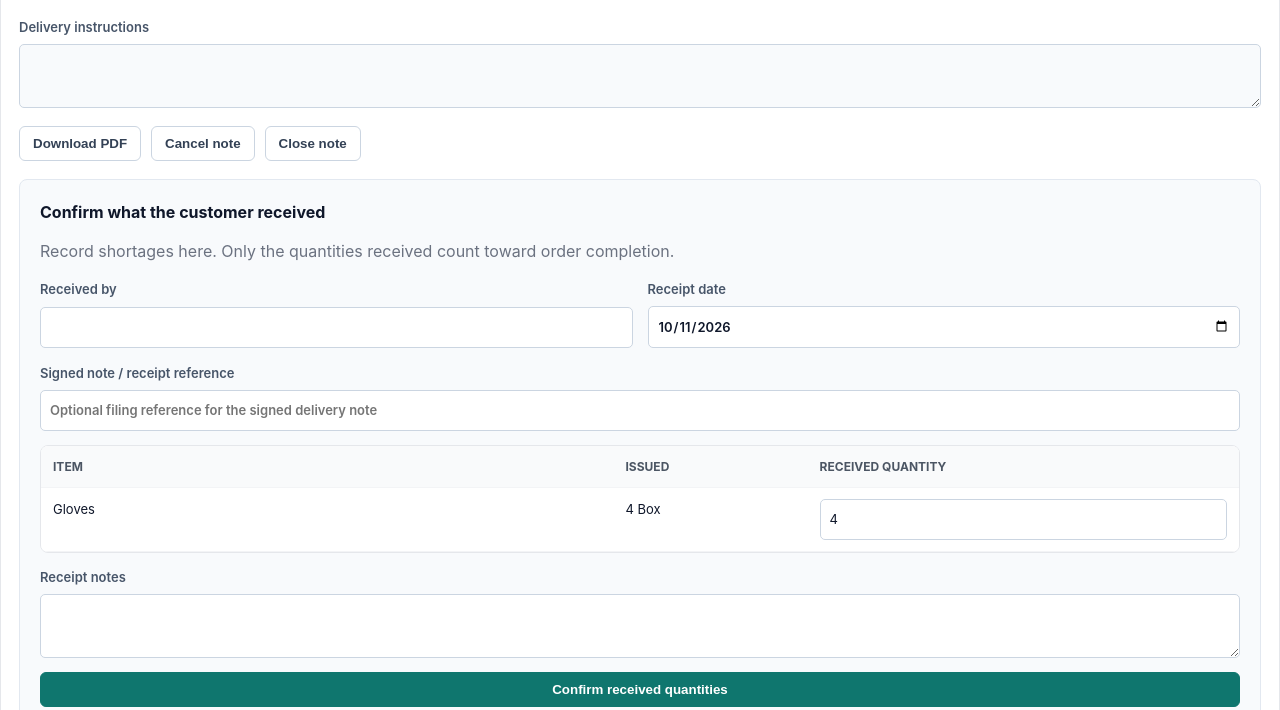
Test case: issued note has a prominent reference editor while quantities remain locked
This screenshot has width=1280, height=710.
(page scrolled)
Type "Receiver in progress" into the field labelled "Received by". click: (336, 327)
box: [40,306,632,348]
(page scrolled)
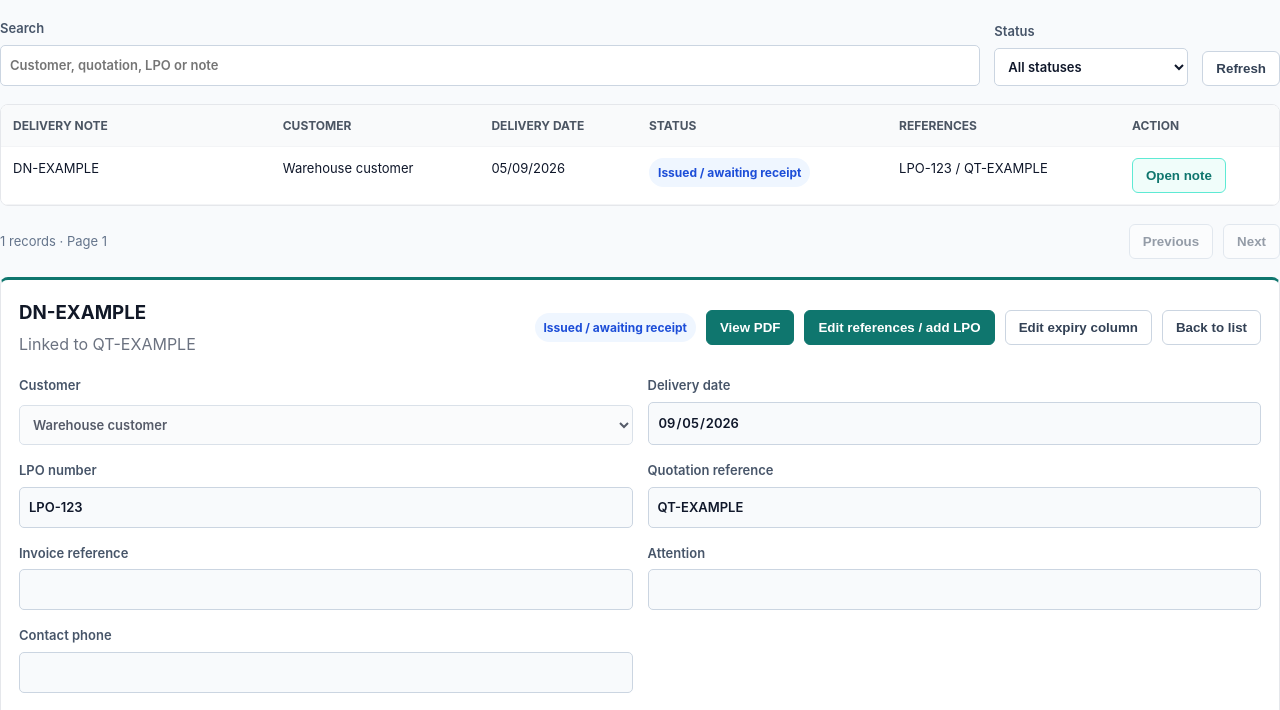
Click the button "Edit references / add LPO". click: (900, 328)
box: [804,310,995,345]
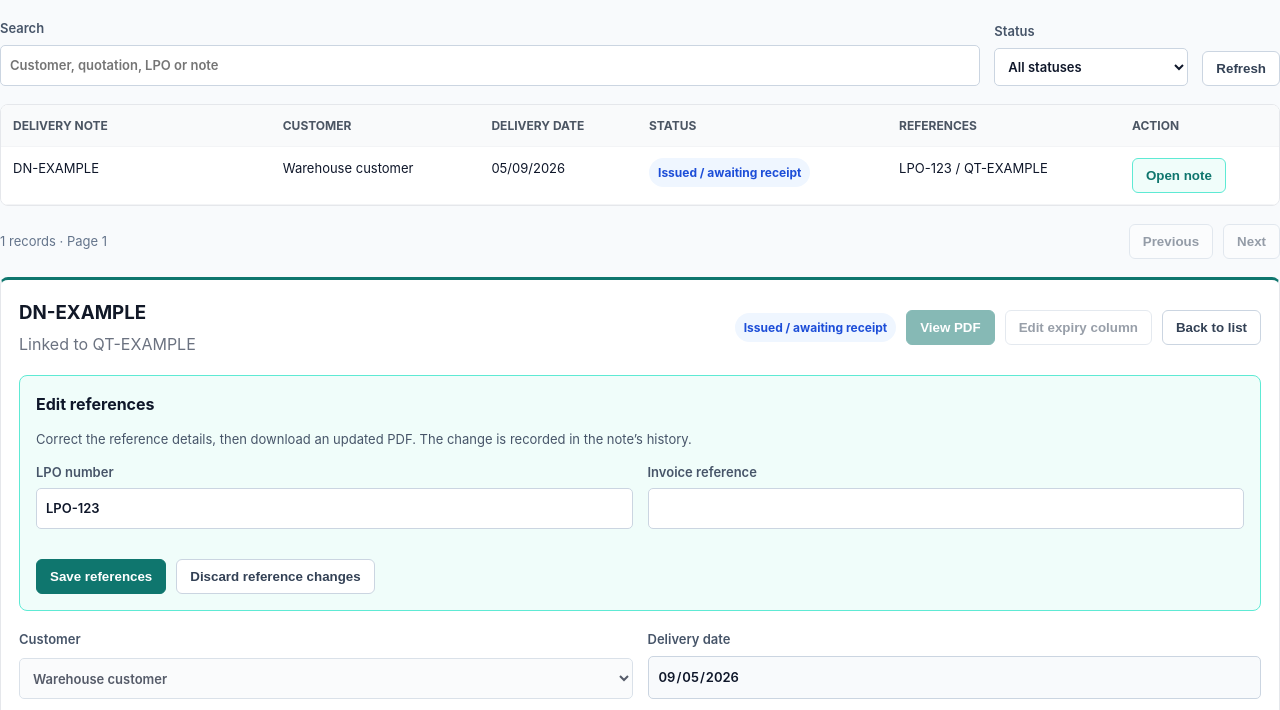
Expected: the date field labelled "Delivery date" is disabled, [648,656,1261,699]
Now the label labelled "Quotation reference" is gone
Replace the text in the field labelled "LPO number" with "PO112_112353". click: (334, 509)
box: [36,488,632,529]
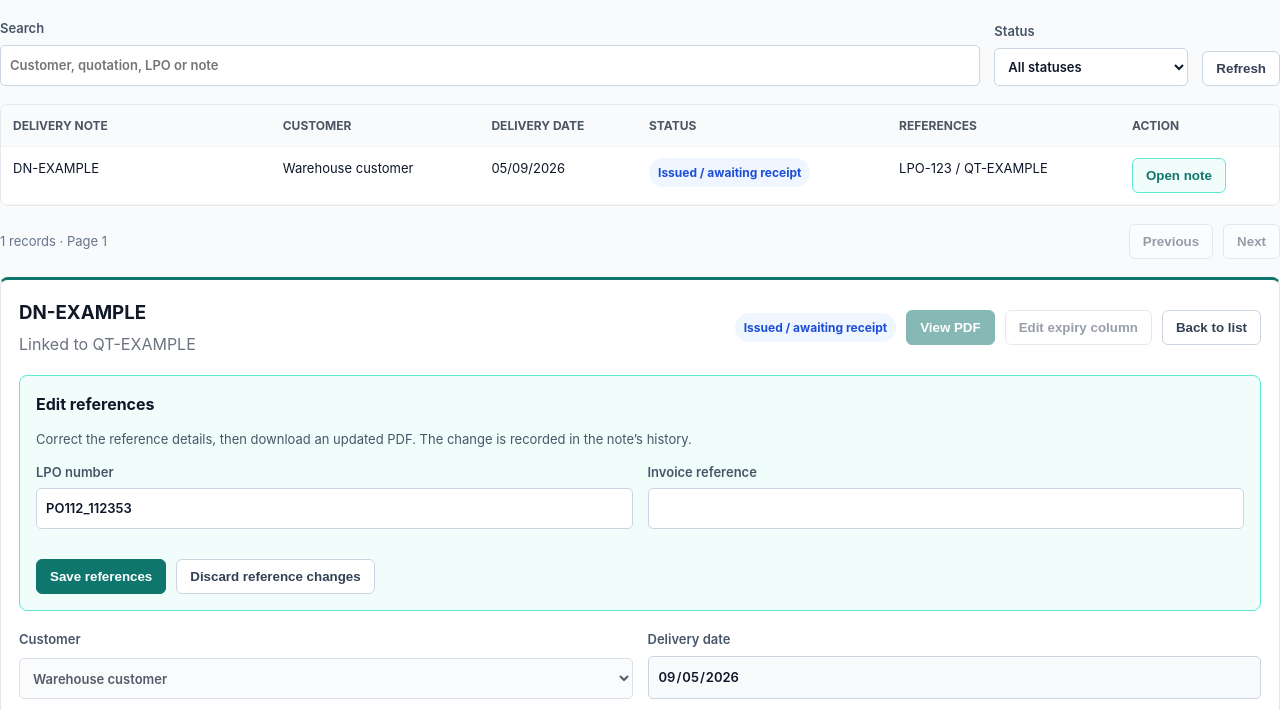
Submit the form named "Edit delivery note references", box [19,375,1261,611]
(page scrolled)
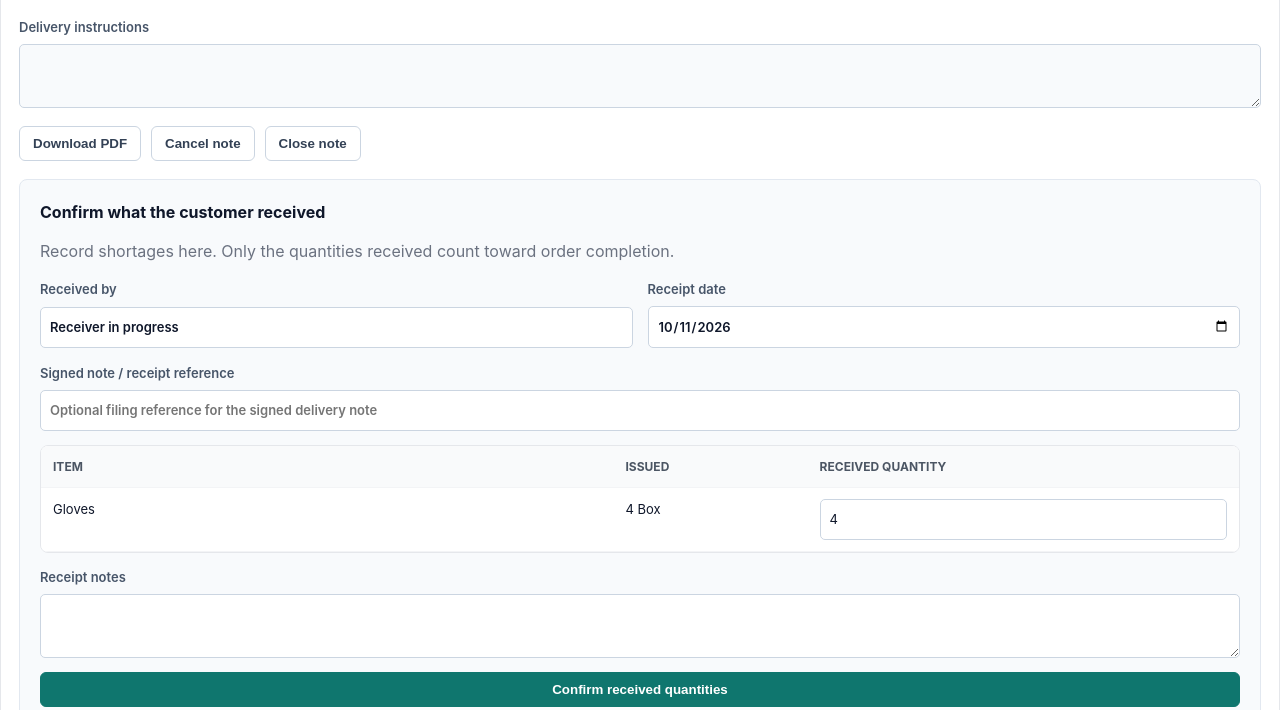
Now the button "Download PDF" is enabled, box [19,126,141,161]
